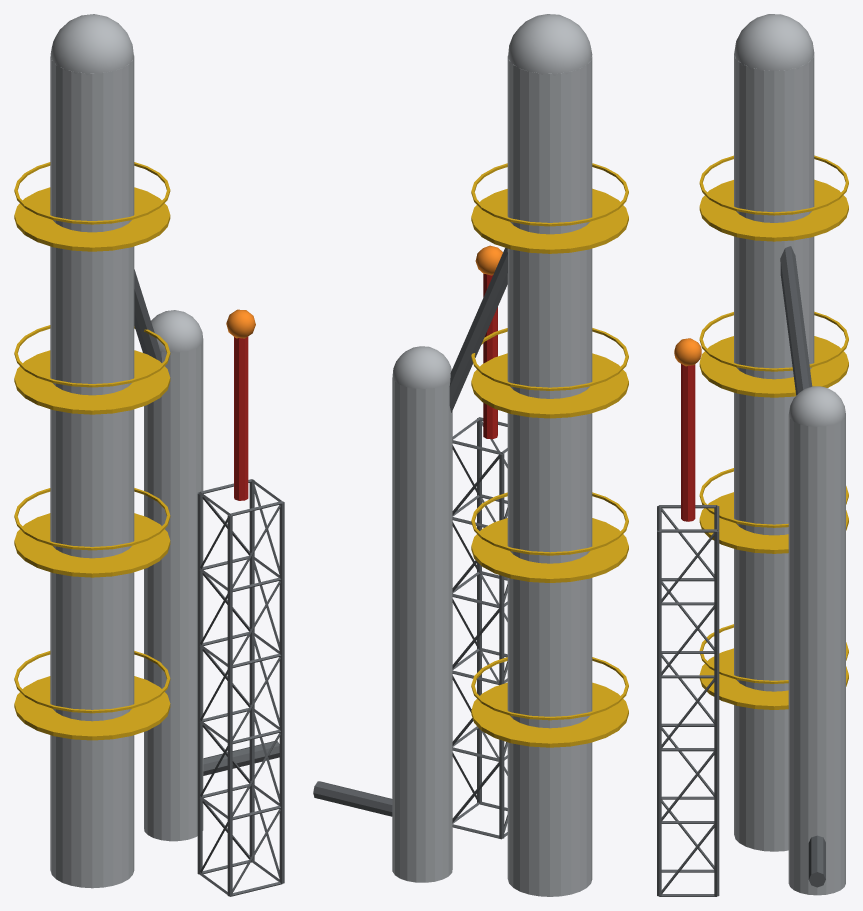
The model's file is pv_destilacni_vez.glb.
The picture shows the model from 3 angles, left to right: view 1: azimuth 30°, elevation 25°; view 2: azimuth 150°, elevation 25°; view 3: azimuth 270°, elevation 25°; orthographic projection. The views are drawn at different scales.
Visible parts, largest first — view 1: dum; view 2: dum; view 3: dum.
Part boxes in pixels (bbox=[...]): dum: bbox=[14, 14, 284, 896]; dum: bbox=[313, 14, 628, 896]; dum: bbox=[657, 14, 848, 896].
Bounding box in the file's own units: 10.57 × 31.38 × 6.67.
1 material, 1 textured.
